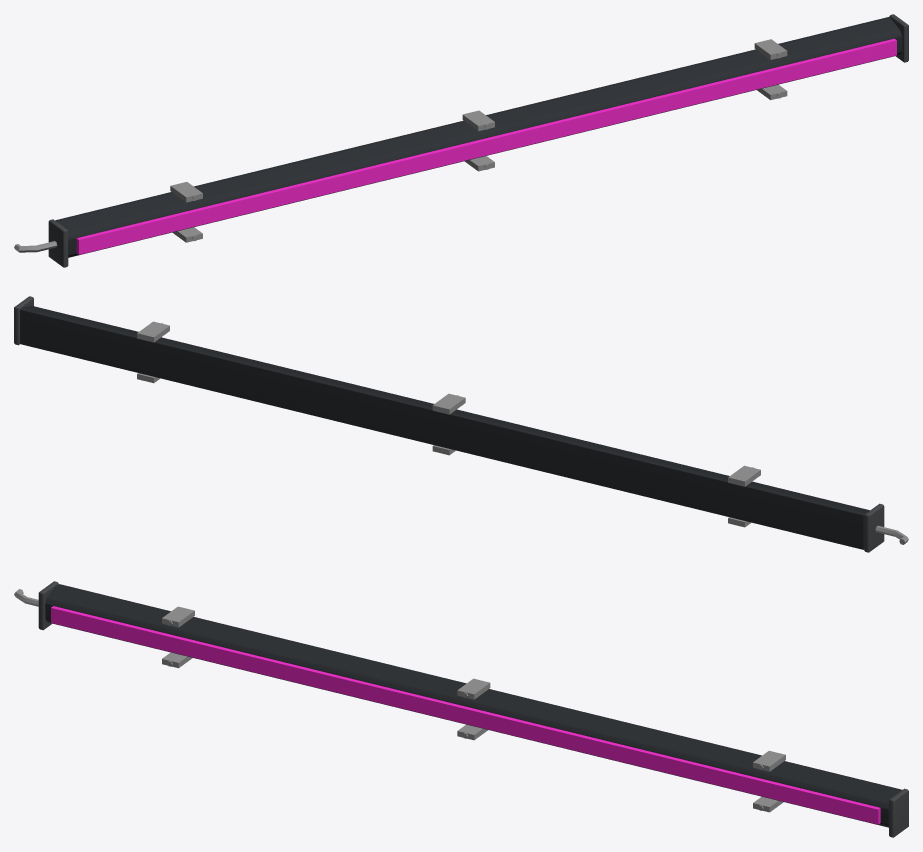
The model's file is Light_Strip_Bar_2m_Magenta.fbx.
The picture shows the model from 3 angles, top to bottom: view 1: azimuth 30°, elevation 25°; view 2: azimuth 150°, elevation 25°; view 3: azimuth 330°, elevation 25°; orthographic projection.
Parts seen in each view (by area): view 1: Light_Strip_Bar_2m_Magenta_LOD0; view 2: Light_Strip_Bar_2m_Magenta_LOD0; view 3: Light_Strip_Bar_2m_Magenta_LOD0.
Boxes of the visible parts, x1=… form: Light_Strip_Bar_2m_Magenta_LOD0: x1=14, y1=14, x2=908, y2=267; Light_Strip_Bar_2m_Magenta_LOD0: x1=14, y1=296, x2=908, y2=552; Light_Strip_Bar_2m_Magenta_LOD0: x1=14, y1=581, x2=908, y2=837.
Size of what is drawn, in the model's own units: 2.11 by 0.104 by 0.071.
